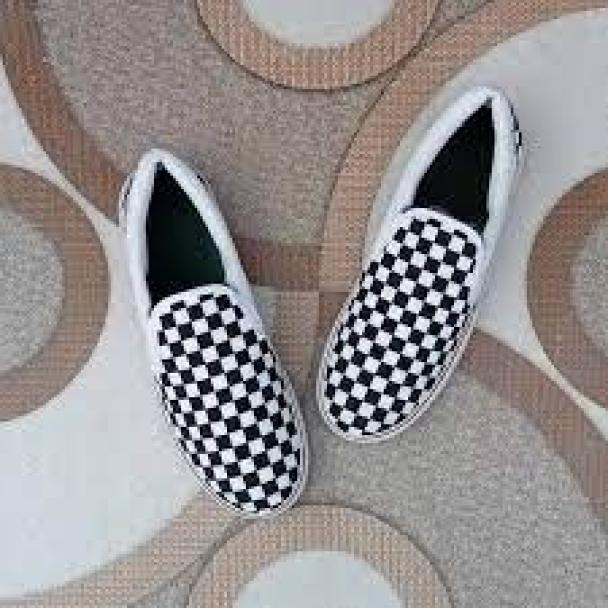Sepatu: (318, 85, 532, 451), (109, 145, 303, 518)
